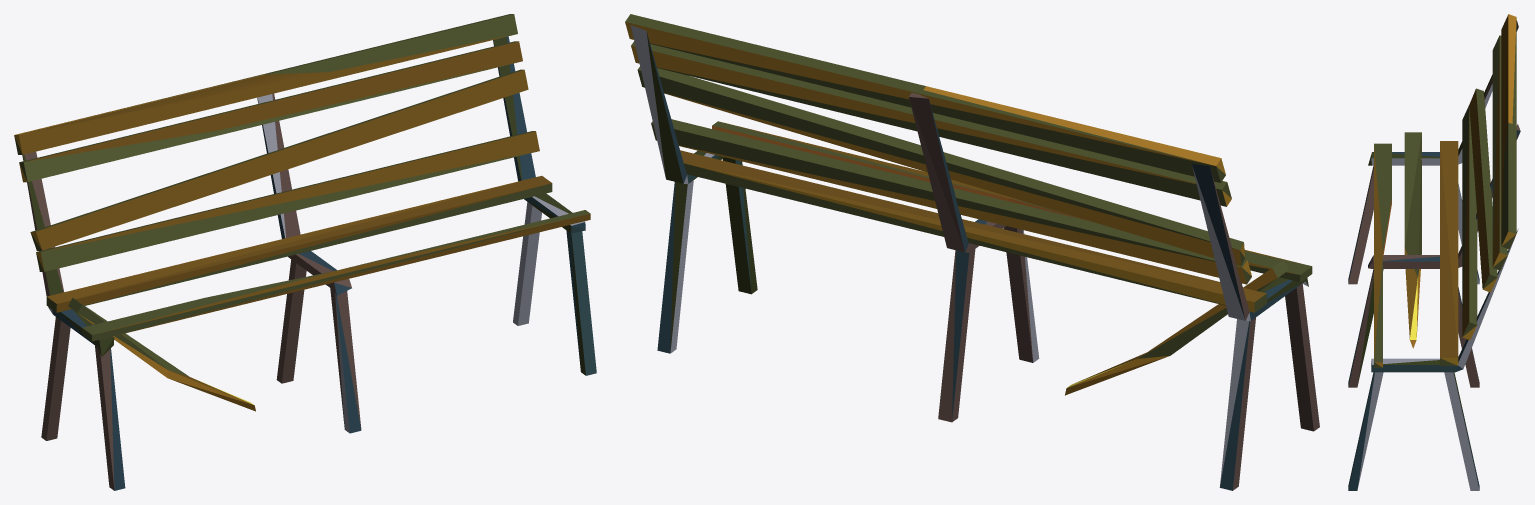
File: Model_Lawka.fbx
3 renders of one model, left to right at view 1: azimuth 30°, elevation 25°; view 2: azimuth 150°, elevation 25°; view 3: azimuth 270°, elevation 25°, orthographic. The views are drawn at different scales.
Visible parts, largest first — view 1: Cube; view 2: Cube; view 3: Cube.
Part boxes in pixels (bbox=[...]): Cube: bbox=[14, 14, 596, 490]; Cube: bbox=[625, 14, 1319, 490]; Cube: bbox=[1348, 14, 1520, 490].
Size of the model in its own units: 77.44 by 130 by 232.
